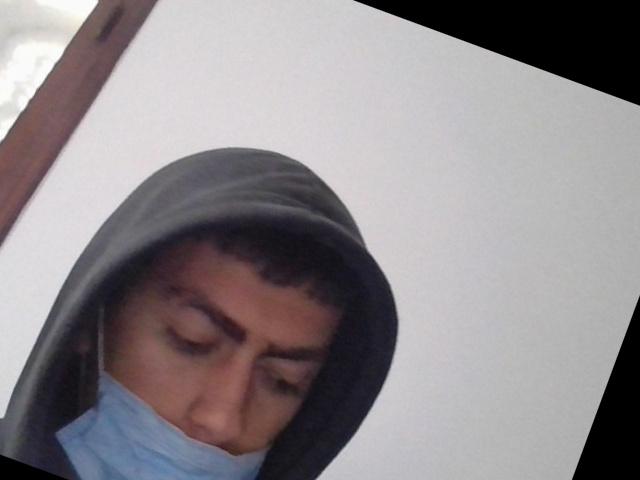mask_weared_incorrect: (60, 222, 341, 480)
